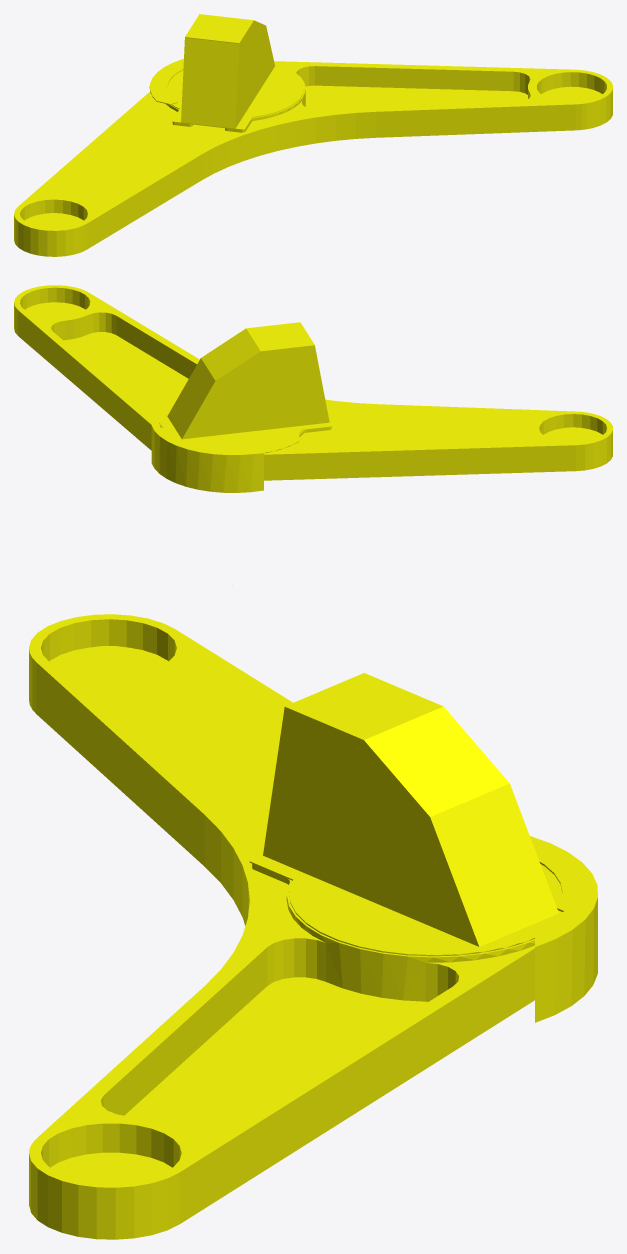
3 views of the same model, one above another, from view 1: azimuth 30°, elevation 25°; view 2: azimuth 150°, elevation 25°; view 3: azimuth 270°, elevation 25° (orthographic). The views are drawn at different scales.
Visible parts, largest first — view 1: node; view 2: node; view 3: node.
Boxes of the visible parts, <box> form: node: <box>14,14,612,256</box>; node: <box>14,285,612,492</box>; node: <box>29,614,597,1239</box>.
Bounding box in the file's own units: 1137 × 450 × 477.
